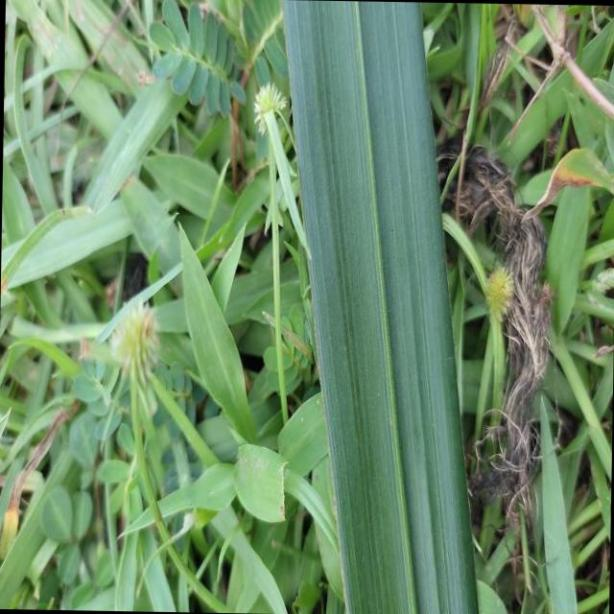Healthy: (283, 0, 478, 614)
